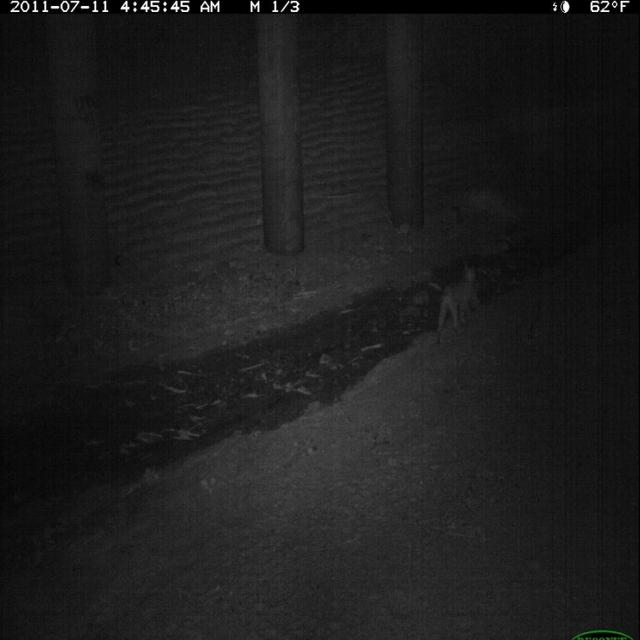bobcat: (432, 262, 483, 345)
rabbit: (469, 276, 481, 325)
